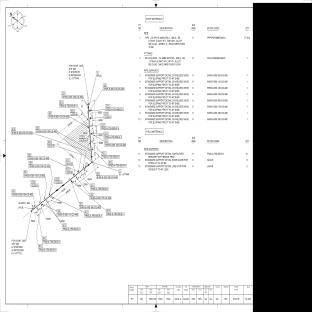elbow: (89, 157, 92, 165)
support: (73, 174, 77, 178), (68, 178, 72, 182), (48, 194, 52, 198), (39, 201, 43, 205), (34, 205, 38, 209), (77, 171, 82, 174), (87, 109, 90, 114), (88, 124, 91, 129), (89, 139, 92, 144), (82, 167, 86, 170), (44, 198, 48, 201), (89, 132, 91, 137), (90, 147, 92, 152), (88, 117, 90, 121)
weld: (88, 164, 90, 166), (91, 156, 92, 158), (88, 104, 89, 105)
